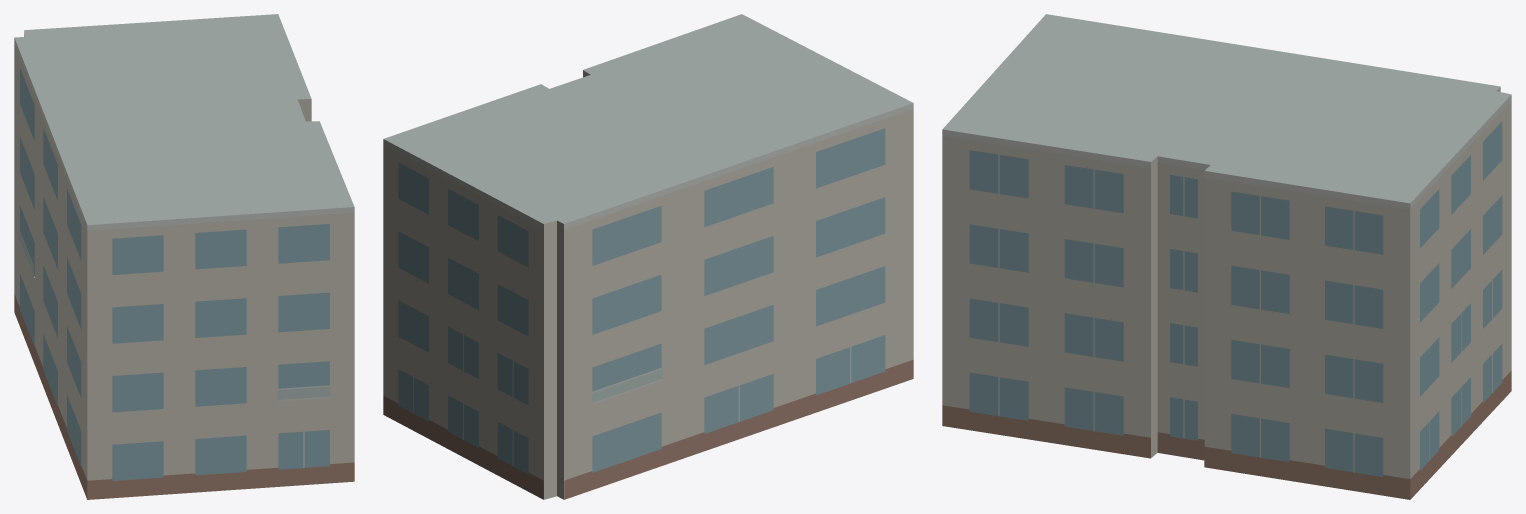
The model's file is survey-upis-32930409.glb.
3 renders of one model, left to right at view 1: azimuth 30°, elevation 25°; view 2: azimuth 150°, elevation 25°; view 3: azimuth 270°, elevation 25°, orthographic. The views are drawn at different scales.
Visible parts, largest first — view 1: survey-upis-32930409.tmp; view 2: survey-upis-32930409.tmp; view 3: survey-upis-32930409.tmp.
Boxes of the visible parts, x1=… form: survey-upis-32930409.tmp: x1=14, y1=14, x2=354, y2=499; survey-upis-32930409.tmp: x1=383, y1=14, x2=913, y2=499; survey-upis-32930409.tmp: x1=942, y1=14, x2=1511, y2=499.
Size of the model in its own units: 16.04 by 11.7 by 20.37.
